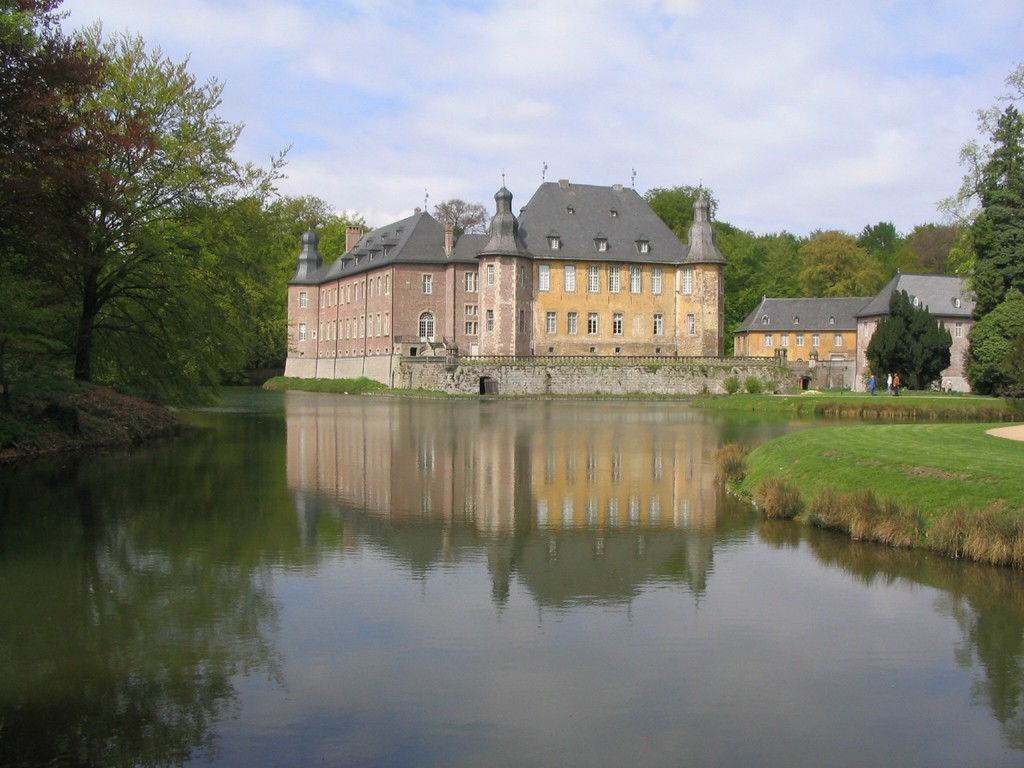Tree: (0, 0, 1023, 409)
